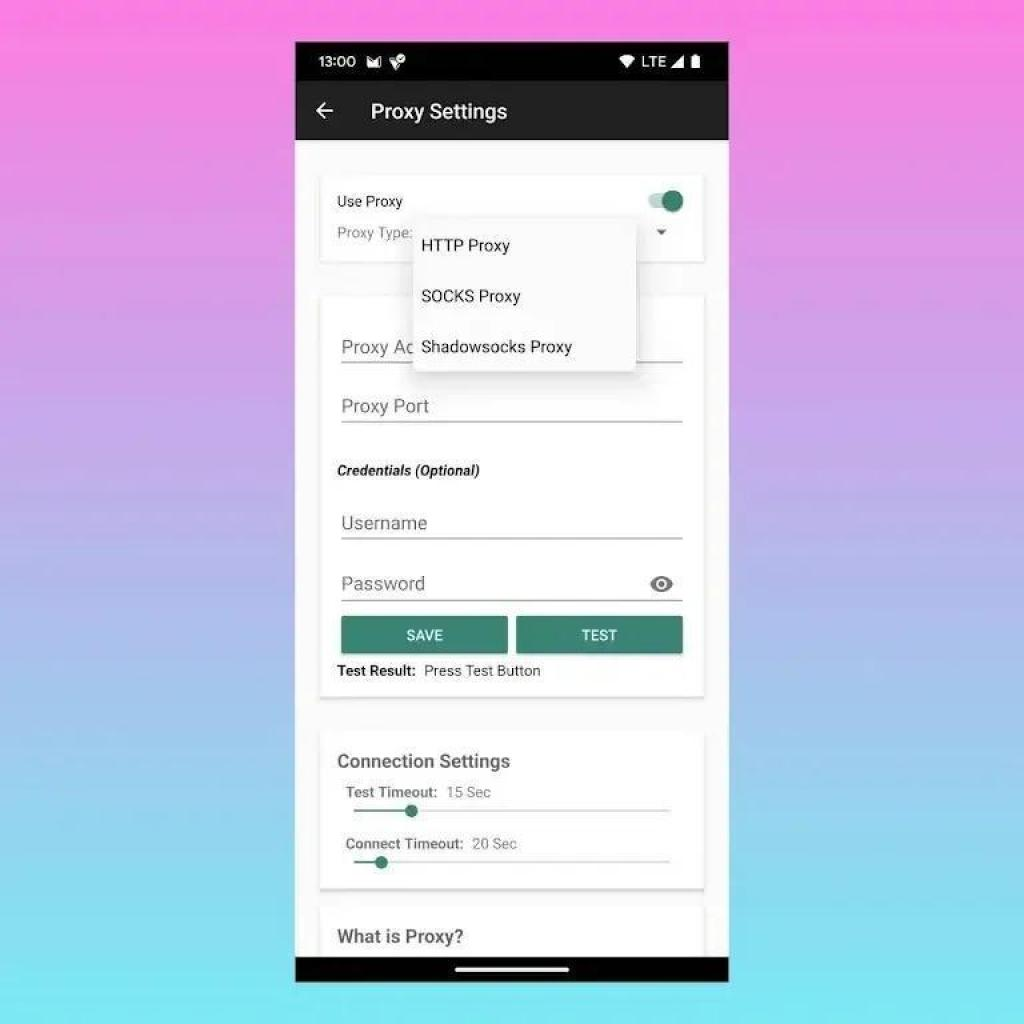button: (340, 613, 508, 655), (516, 615, 684, 653)
icon: (647, 571, 677, 596)
label: (335, 661, 544, 683), (332, 752, 516, 776), (336, 460, 484, 485), (336, 924, 469, 948), (369, 103, 511, 125), (422, 340, 574, 360), (342, 834, 522, 850), (343, 783, 500, 801), (420, 286, 521, 306), (419, 237, 513, 256), (335, 194, 404, 210)
switch: (646, 190, 682, 214)
